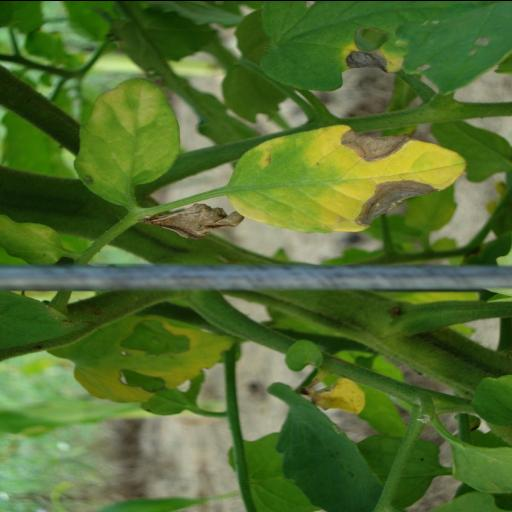disease_tomato: (222, 129, 466, 235)
